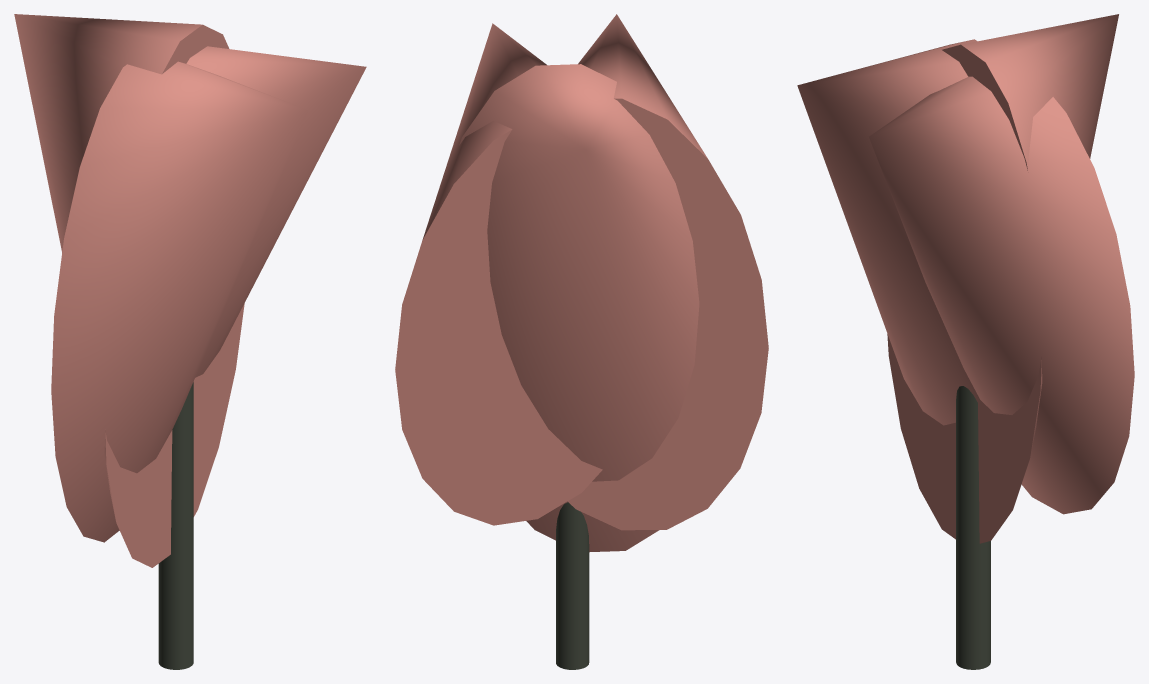
Rendered from flower.fbx.
3 views of the same model, side by side, from view 1: azimuth 30°, elevation 25°; view 2: azimuth 150°, elevation 25°; view 3: azimuth 270°, elevation 25° (orthographic). The views are drawn at different scales.
Parts seen in each view (by area): view 1: rpet1, rpet4, pet2, flower; view 2: rpet4, pet2, rpet1, flower; view 3: pet2, rpet1, rpet4, flower.
Boxes of the visible parts, bbox=[...] form: rpet1: bbox=[51, 61, 308, 542]; rpet4: bbox=[14, 14, 244, 567]; pet2: bbox=[186, 46, 366, 377]; flower: bbox=[158, 382, 193, 669]; rpet4: bbox=[459, 64, 699, 552]; pet2: bbox=[395, 23, 602, 525]; rpet1: bbox=[568, 14, 768, 530]; flower: bbox=[556, 502, 589, 669]; pet2: bbox=[869, 76, 1134, 514]; rpet1: bbox=[797, 39, 979, 425]; rpet4: bbox=[887, 14, 1118, 543]; flower: bbox=[956, 386, 990, 669].
Bounding box in the file's own units: 1.88 × 3.71 × 1.84.
